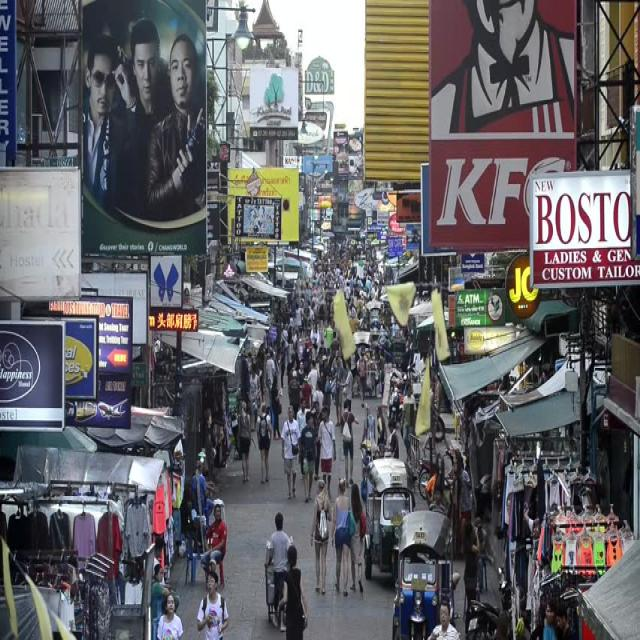body: (235, 207, 473, 400), (80, 11, 206, 224), (426, 0, 587, 133), (191, 405, 218, 552), (491, 349, 557, 404), (264, 509, 292, 632), (276, 541, 310, 639), (309, 476, 333, 597), (523, 500, 546, 613), (199, 501, 228, 584), (332, 478, 352, 598), (197, 569, 230, 640), (461, 517, 480, 631), (348, 481, 367, 595), (280, 403, 302, 501), (146, 536, 168, 628), (316, 405, 337, 500), (453, 455, 472, 557), (338, 399, 359, 489), (299, 409, 316, 504), (179, 485, 204, 548), (424, 597, 461, 639), (218, 377, 235, 468), (529, 596, 564, 640), (424, 453, 450, 512), (256, 400, 274, 485), (150, 562, 170, 638), (546, 284, 622, 304), (236, 397, 253, 483), (400, 380, 417, 464), (156, 589, 184, 639), (491, 606, 531, 638), (310, 398, 324, 482), (359, 404, 377, 467), (295, 395, 308, 481), (599, 327, 631, 361), (475, 515, 488, 596), (336, 355, 354, 412), (246, 362, 260, 434), (425, 382, 438, 458), (269, 373, 283, 443), (64, 552, 90, 588), (354, 343, 368, 408), (333, 356, 345, 428), (152, 337, 177, 368), (288, 368, 301, 420), (375, 500, 409, 519), (306, 359, 319, 408), (556, 604, 573, 640), (299, 373, 313, 415), (433, 369, 442, 432), (387, 417, 400, 459), (376, 404, 388, 445), (432, 484, 446, 512), (450, 447, 460, 477), (295, 359, 306, 385), (235, 400, 252, 415), (463, 457, 471, 483), (460, 449, 468, 475), (332, 351, 343, 369), (207, 161, 220, 172)
